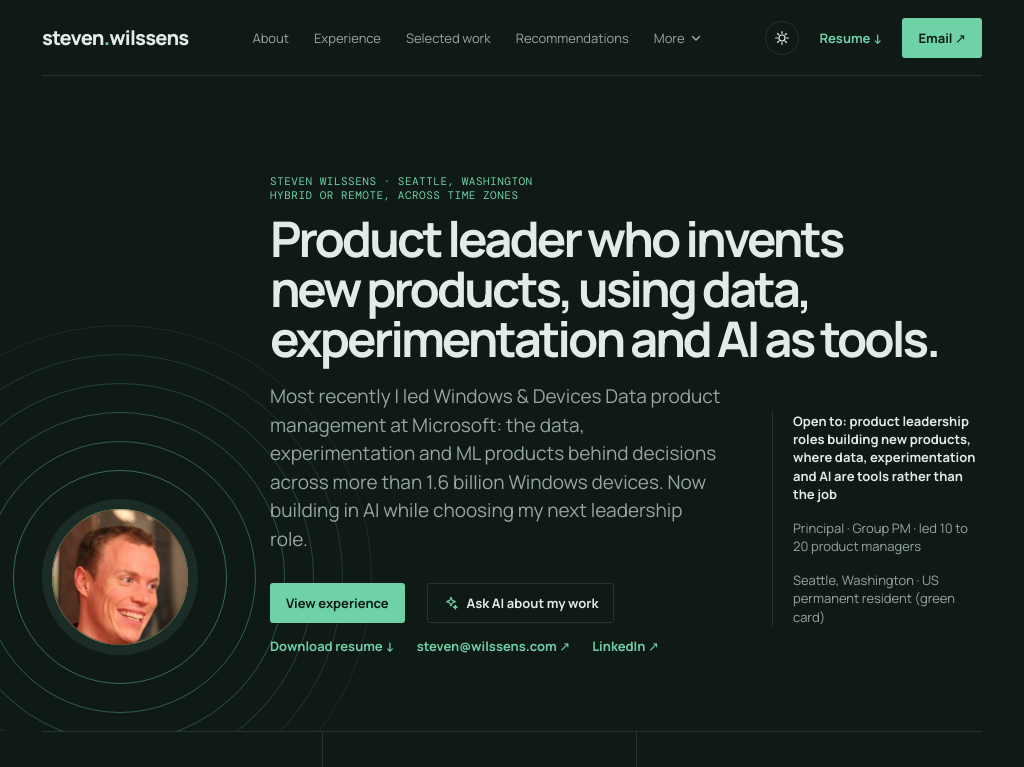
Scenario: theme switch › cross-fades with a view transition where the browser has one
Click the button named "Switch to light mode": coordinates (782, 38) [766,20,800,54]
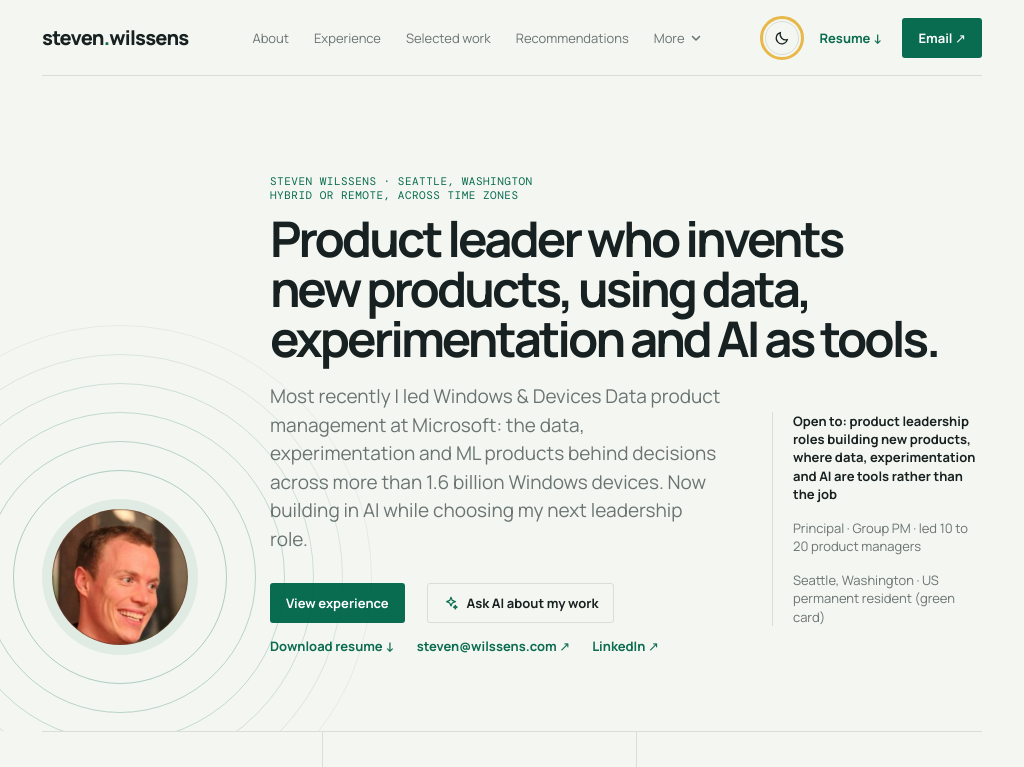
Expected: the button named "Switch to dark mode" is shown, [766,20,800,54]
